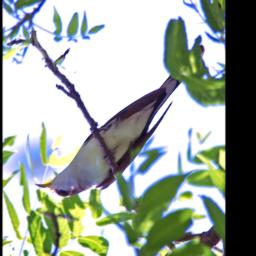Cuckoo: (35, 44, 205, 199)
